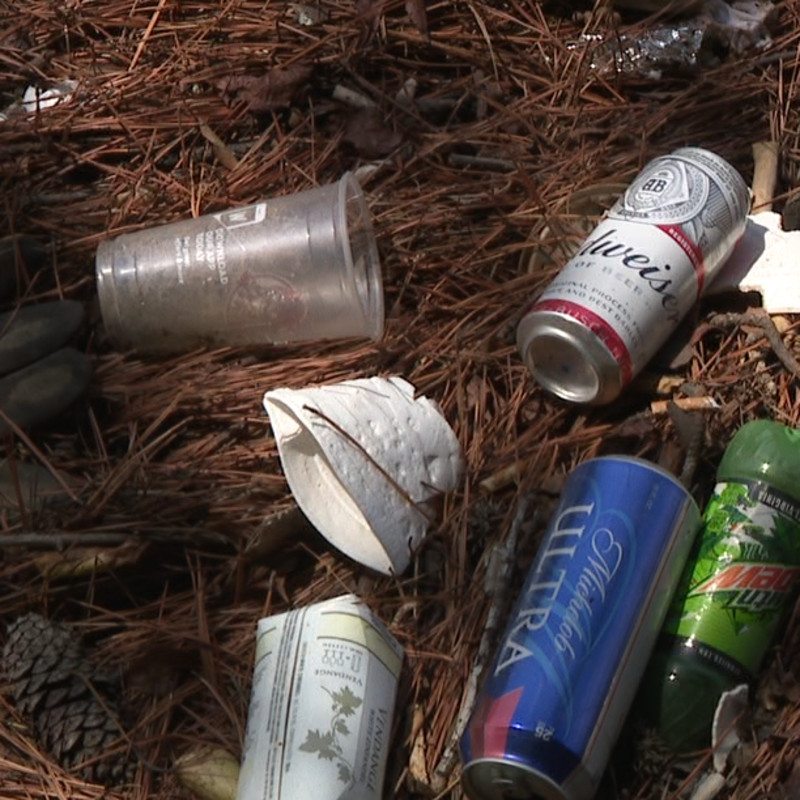cardboard: (247, 372, 465, 577), (226, 589, 407, 800)
metal: (477, 449, 705, 800), (519, 109, 761, 418)
plastic: (74, 165, 404, 349), (629, 425, 800, 755), (233, 167, 272, 204)
